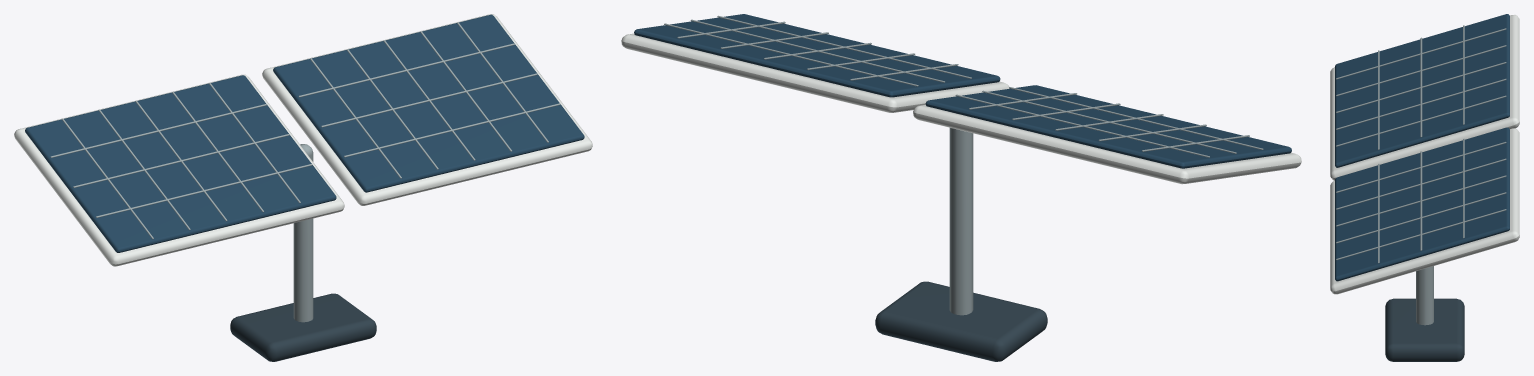
File: solar.glb
The picture shows the model from 3 angles, left to right: view 1: azimuth 30°, elevation 25°; view 2: azimuth 150°, elevation 25°; view 3: azimuth 270°, elevation 25°; orthographic projection. The views are drawn at different scales.
Parts seen in each view (by area): view 1: photovoltaic surface.001, photovoltaic surface, solar ground base, panel frame.001, panel frame, central mast, cell lines.005, cell lines.006, cell lines.007, cell lines.014, cell lines.013, cell lines.015; view 2: photovoltaic surface, photovoltaic surface.001, solar ground base, panel frame, panel frame.001, central mast, cell lines.015, cell lines.006, cell lines.007, cell lines.005, cell lines.013, cell lines.014; view 3: photovoltaic surface.001, photovoltaic surface, solar ground base, panel frame.001, panel frame, central mast, cell lines.010, cell lines.001, cell lines.012, cell lines, cell lines.002, cell lines.003 (+10 smaller).
Part boxes in pixels (left/top/right/bottom): photovoltaic surface.001: left=273, top=14, right=584, bottom=192; photovoltaic surface: left=25, top=75, right=336, bottom=252; solar ground base: left=230, top=293, right=376, bottom=361; panel frame.001: left=262, top=14, right=592, bottom=205; panel frame: left=14, top=74, right=344, bottom=266; central mast: left=293, top=144, right=313, bottom=322; cell lines.005: left=96, top=164, right=312, bottom=217; cell lines.006: left=73, top=134, right=289, bottom=187; cell lines.007: left=50, top=104, right=266, bottom=157; cell lines.014: left=321, top=73, right=537, bottom=127; cell lines.013: left=344, top=103, right=560, bottom=157; cell lines.015: left=298, top=43, right=514, bottom=97; photovoltaic surface: left=925, top=85, right=1291, bottom=168; photovoltaic surface.001: left=634, top=14, right=1000, bottom=97; solar ground base: left=875, top=281, right=1047, bottom=361; panel frame: left=913, top=104, right=1301, bottom=184; panel frame.001: left=621, top=33, right=1009, bottom=112; central mast: left=949, top=128, right=973, bottom=315; cell lines.015: left=664, top=23, right=918, bottom=86; cell lines.006: left=982, top=90, right=1236, bottom=153; cell lines.007: left=955, top=94, right=1209, bottom=157; cell lines.005: left=1009, top=87, right=1263, bottom=149; cell lines.013: left=717, top=15, right=971, bottom=78; cell lines.014: left=690, top=19, right=944, bottom=82; photovoltaic surface.001: left=1335, top=127, right=1509, bottom=281; photovoltaic surface: left=1335, top=14, right=1509, bottom=167; solar ground base: left=1385, top=298, right=1464, bottom=361; panel frame.001: left=1330, top=128, right=1519, bottom=294; panel frame: left=1330, top=15, right=1519, bottom=180; central mast: left=1416, top=266, right=1433, bottom=325; cell lines.010: left=1336, top=175, right=1506, bottom=226; cell lines.001: left=1336, top=45, right=1506, bottom=96; cell lines.012: left=1336, top=209, right=1506, bottom=260; cell lines: left=1336, top=28, right=1506, bottom=79; cell lines.002: left=1336, top=62, right=1506, bottom=113; cell lines.003: left=1336, top=78, right=1506, bottom=129.
Bounding box in the file's own units: 5.25 × 2.45 × 1.91.
